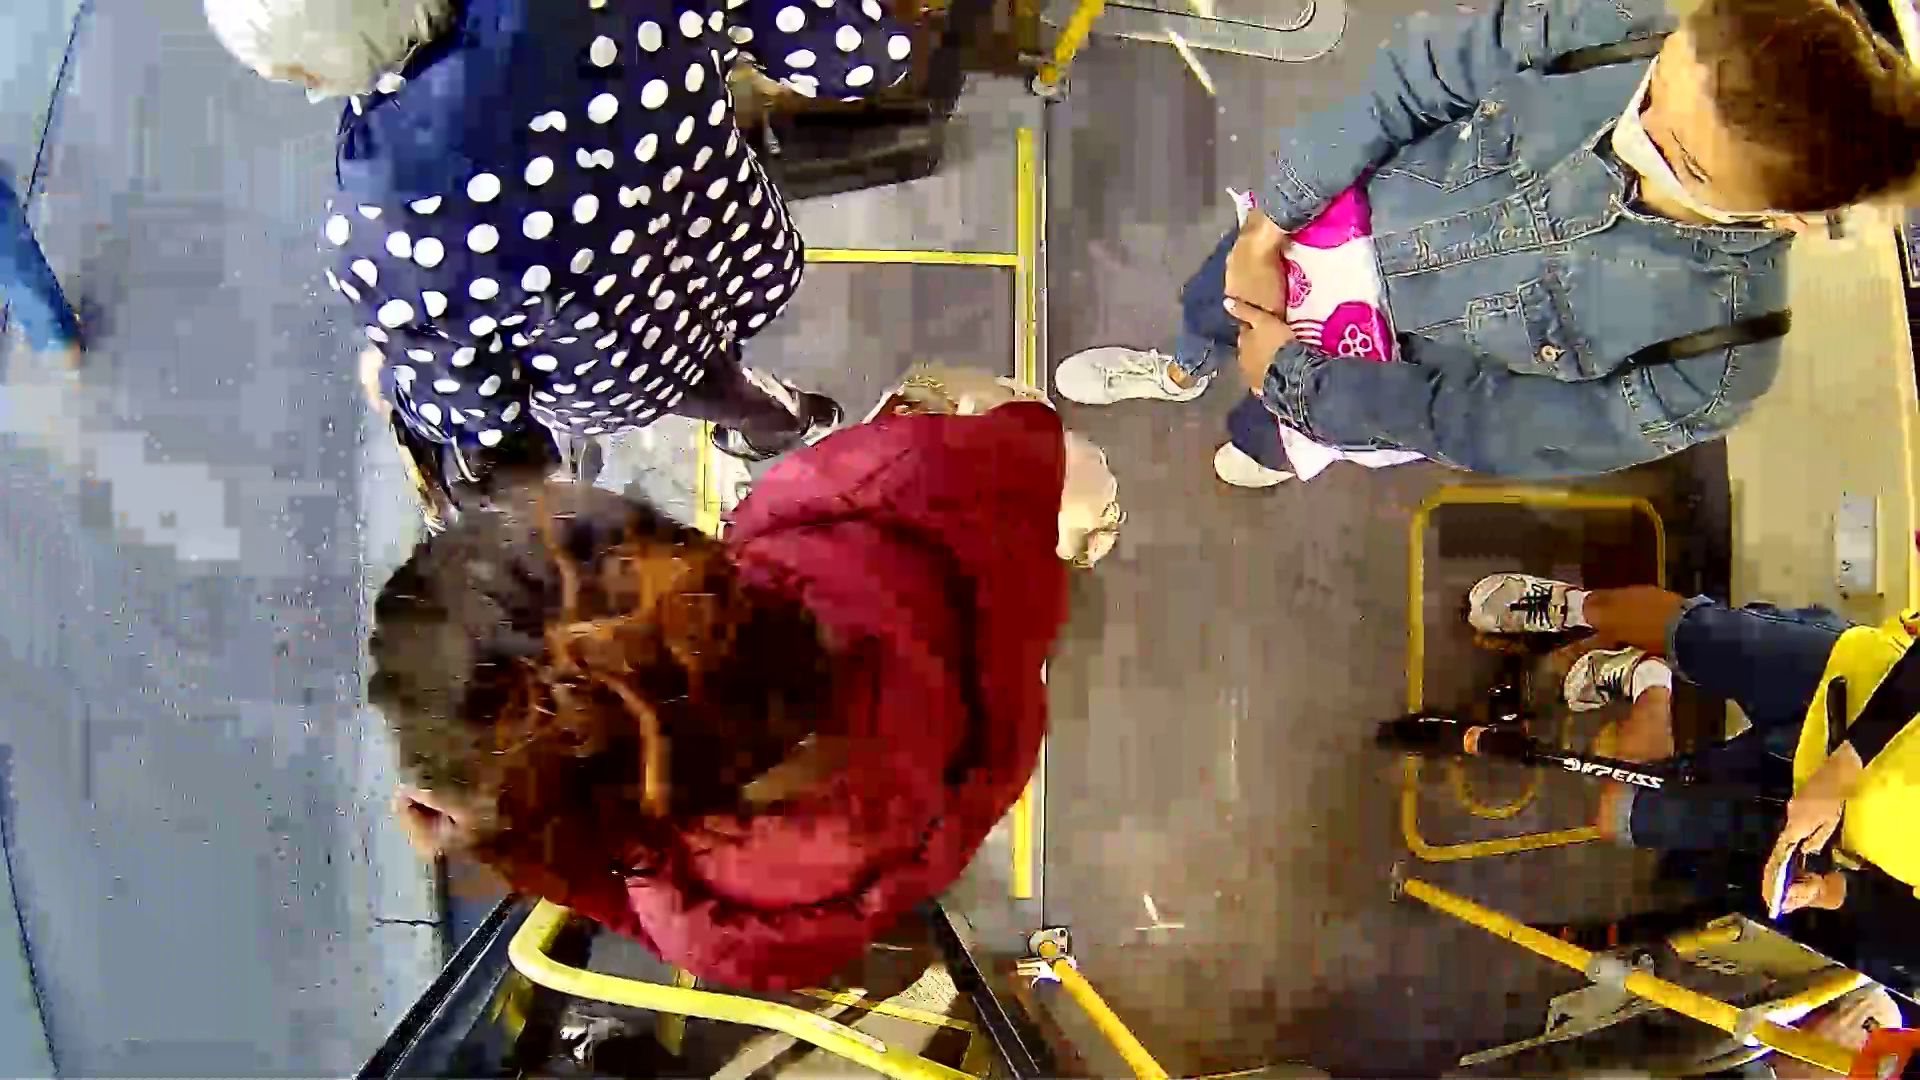person: (224, 436, 1247, 954), (189, 1, 956, 495), (1209, 28, 1856, 564)
